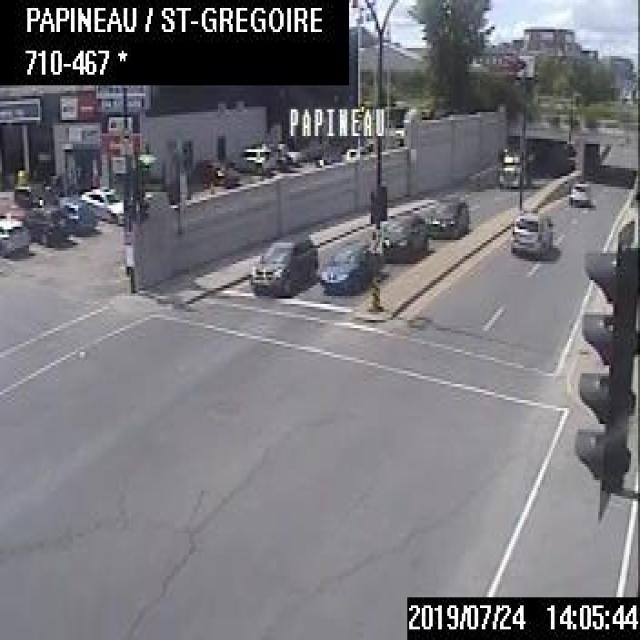vehicle: (247, 228, 318, 294), (317, 236, 384, 293), (377, 211, 427, 263), (23, 204, 73, 251), (509, 208, 553, 251), (425, 192, 466, 238), (78, 183, 122, 225), (55, 198, 96, 240), (195, 154, 240, 187), (494, 147, 532, 184), (0, 216, 29, 259), (241, 142, 273, 174), (568, 181, 588, 203)
